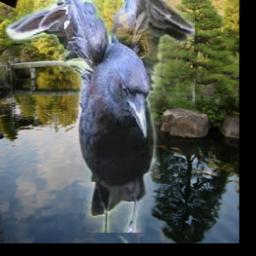Crow: (6, 1, 196, 234)
